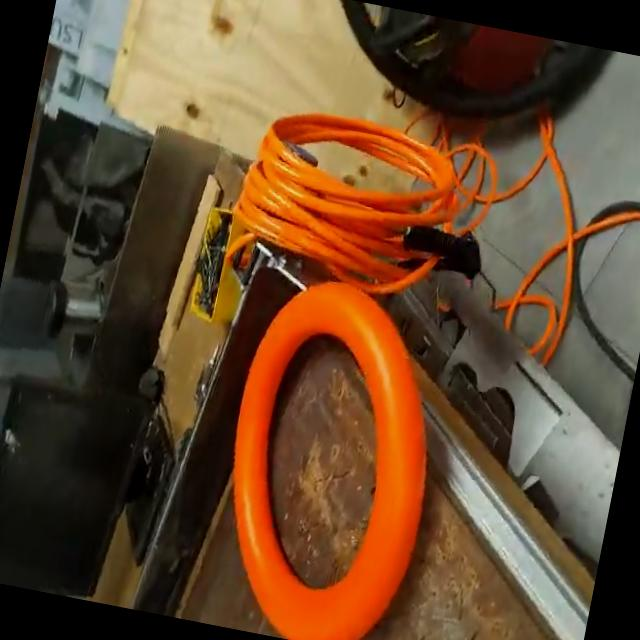note: (191, 267, 470, 640)
